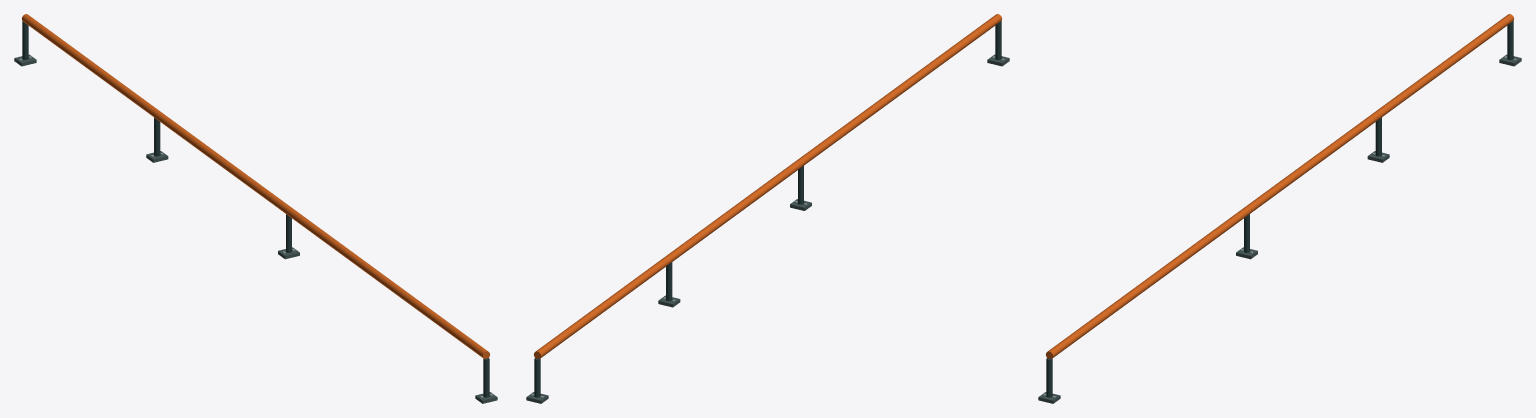
Rendered from mandarin-flat.glb.
The picture shows the model from 3 angles, left to right: view 1: azimuth 30°, elevation 25°; view 2: azimuth 150°, elevation 25°; view 3: azimuth 330°, elevation 25°; orthographic projection.
Visible parts, largest first — view 1: mandarin-flat; view 2: mandarin-flat; view 3: mandarin-flat.
Part boxes in pixels (x1,y1,x2,y2): mandarin-flat: (14, 14, 497, 403); mandarin-flat: (526, 14, 1009, 403); mandarin-flat: (1038, 14, 1521, 403).
Bounding box in the file's own units: 0.26 × 0.8024 × 14.22.
